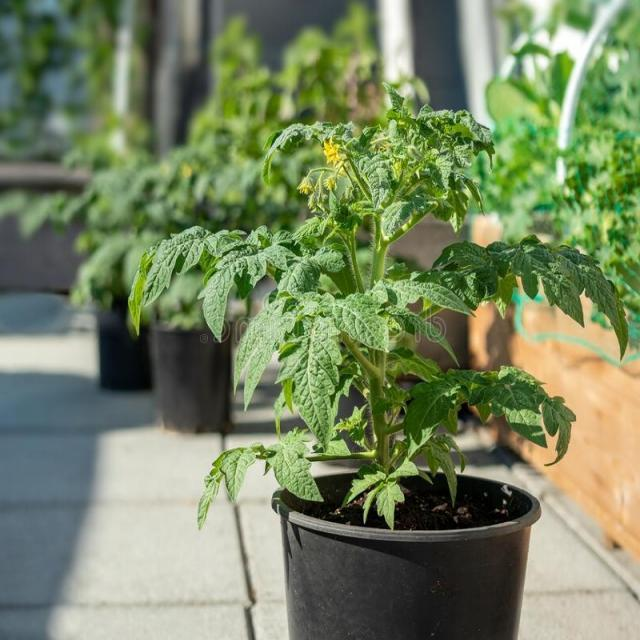tomato: (130, 86, 630, 529)
